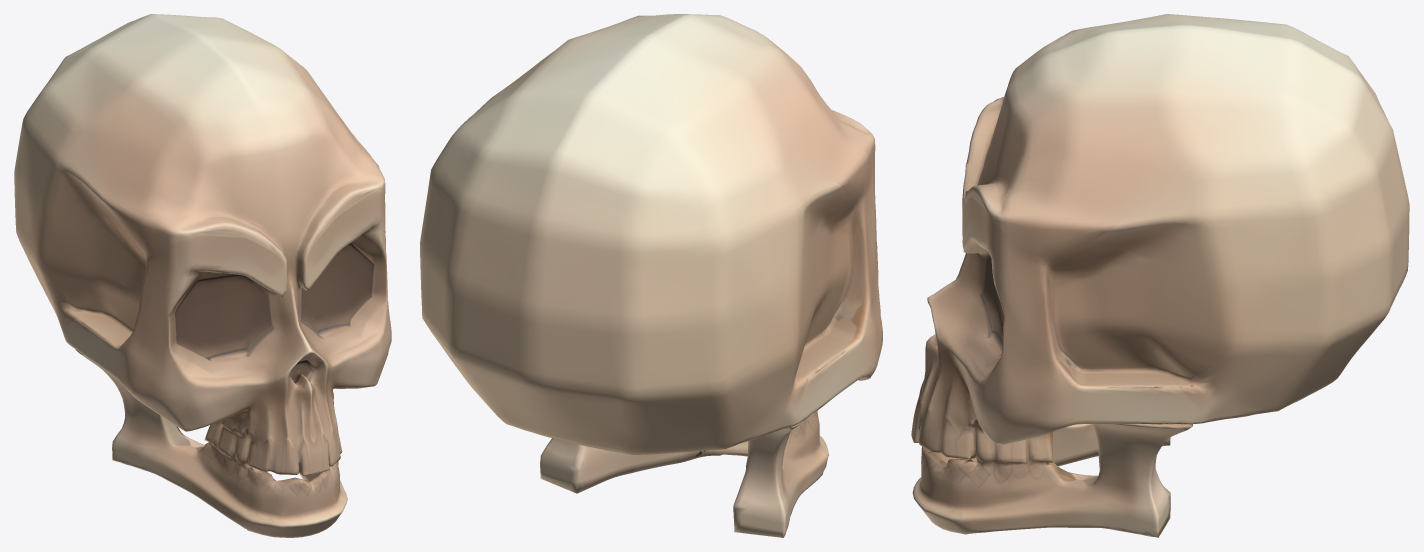
File: toon_skull.glb
The picture shows the model from 3 angles, left to right: view 1: azimuth 30°, elevation 25°; view 2: azimuth 150°, elevation 25°; view 3: azimuth 270°, elevation 25°; orthographic projection. The views are drawn at different scales.
Parts seen in each view (by area): view 1: Object_2; view 2: Object_2; view 3: Object_2.
Boxes of the visible parts, x1=… form: Object_2: x1=14, y1=14, x2=391, y2=537; Object_2: x1=420, y1=14, x2=882, y2=537; Object_2: x1=911, y1=14, x2=1409, y2=537.
Size of the model in its own units: 1.33 by 1.9 by 1.75.
Materials: 1 (1 with a texture image).
